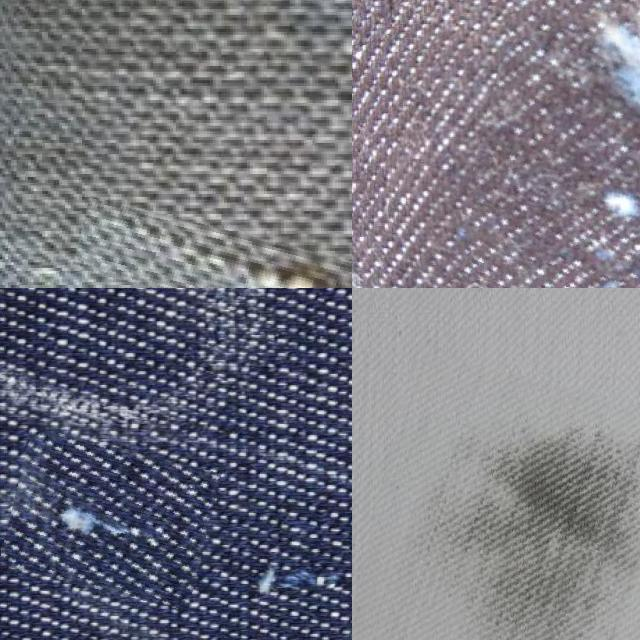Thread_other: (352, 366, 640, 640)
stains: (461, 0, 640, 288), (5, 438, 214, 601), (73, 220, 352, 288), (228, 525, 352, 640)
